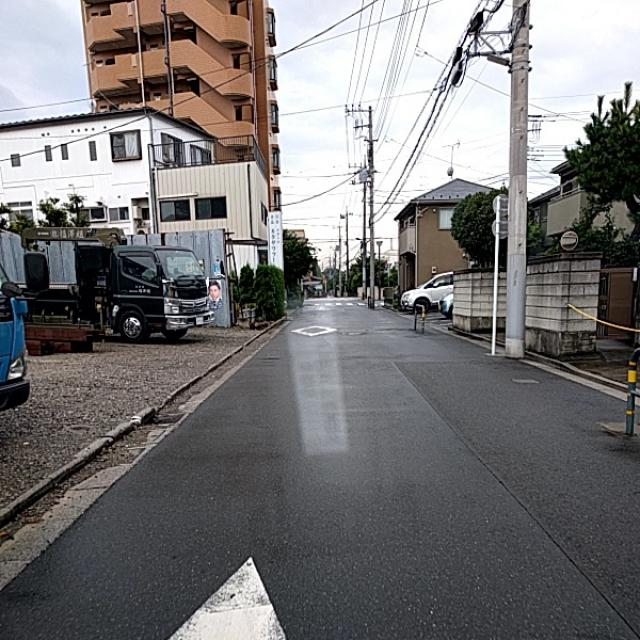pothole: (512, 506, 593, 584), (75, 452, 126, 496)
